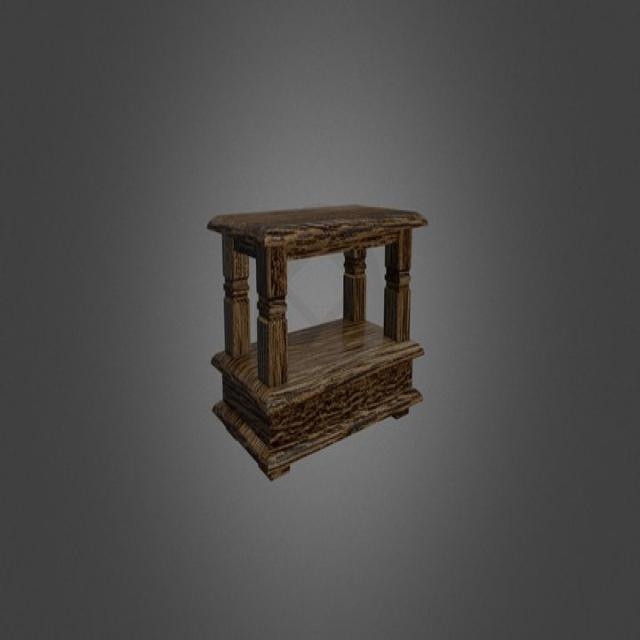table: (208, 200, 430, 479)
